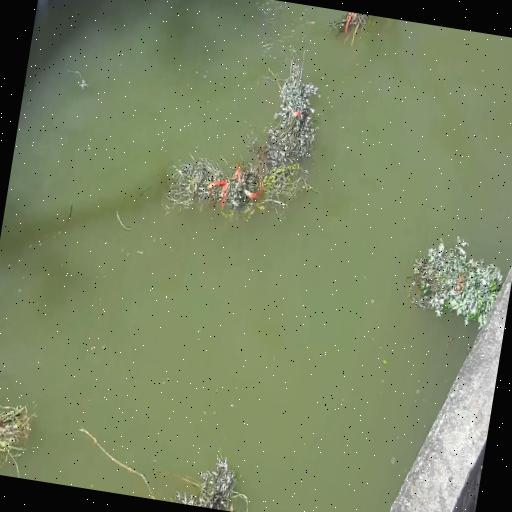twig: (163, 145, 318, 225), (402, 230, 508, 330), (254, 40, 331, 173), (152, 440, 256, 512), (0, 391, 37, 477), (326, 9, 377, 50)
